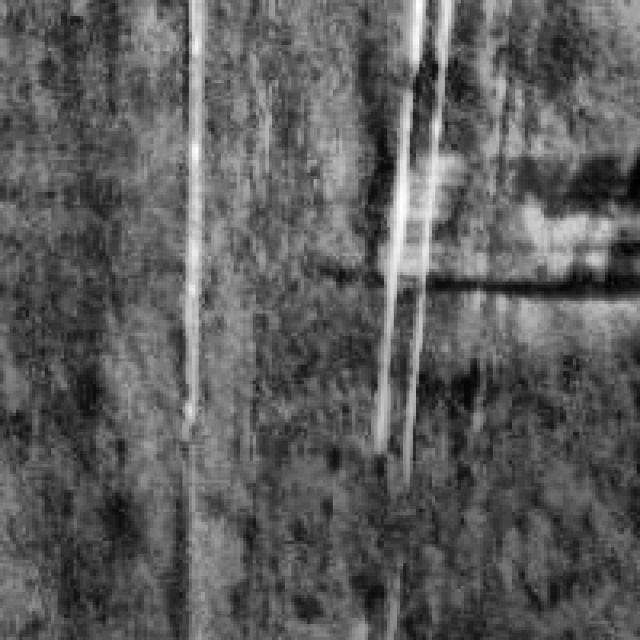Inclusion: (362, 0, 458, 467), (166, 0, 218, 419)
Patches: (364, 147, 634, 298)
